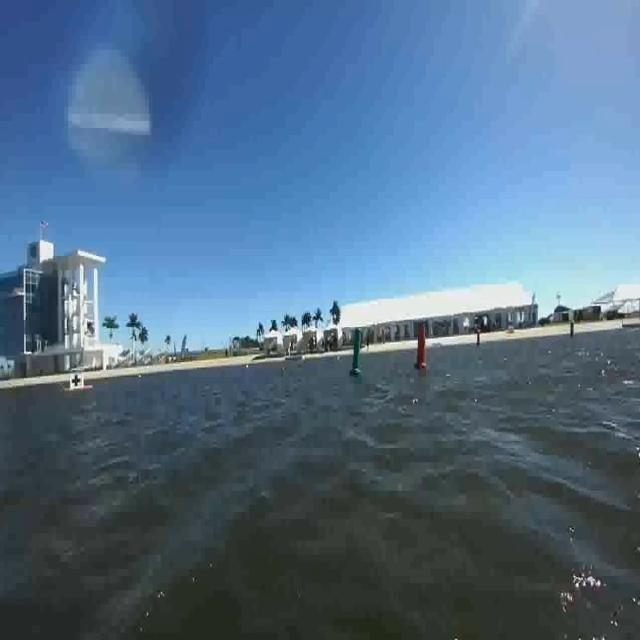green-column-buoy: (349, 326, 364, 377)
red-column-buoy: (415, 327, 428, 372)
